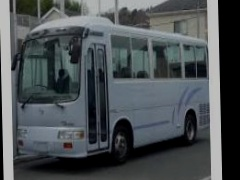bus: (18, 14, 209, 166)
